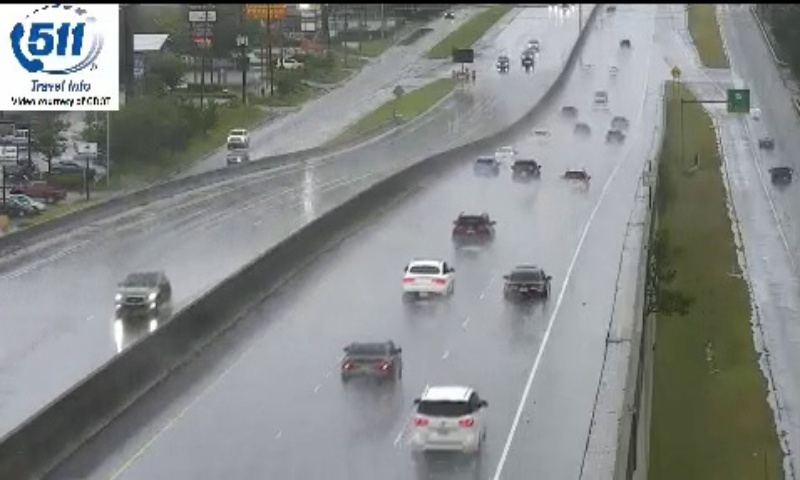car: (413, 386, 485, 453), (341, 340, 401, 380), (403, 259, 455, 299), (503, 264, 547, 299), (453, 211, 495, 247), (512, 158, 540, 182), (562, 169, 589, 192), (473, 154, 498, 175)
